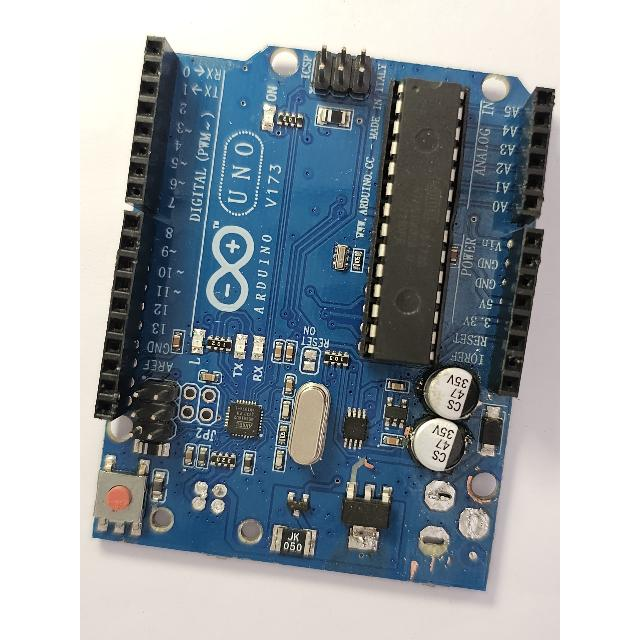missing_eps: (405, 475, 474, 577)
missing_usb: (160, 472, 271, 555)
